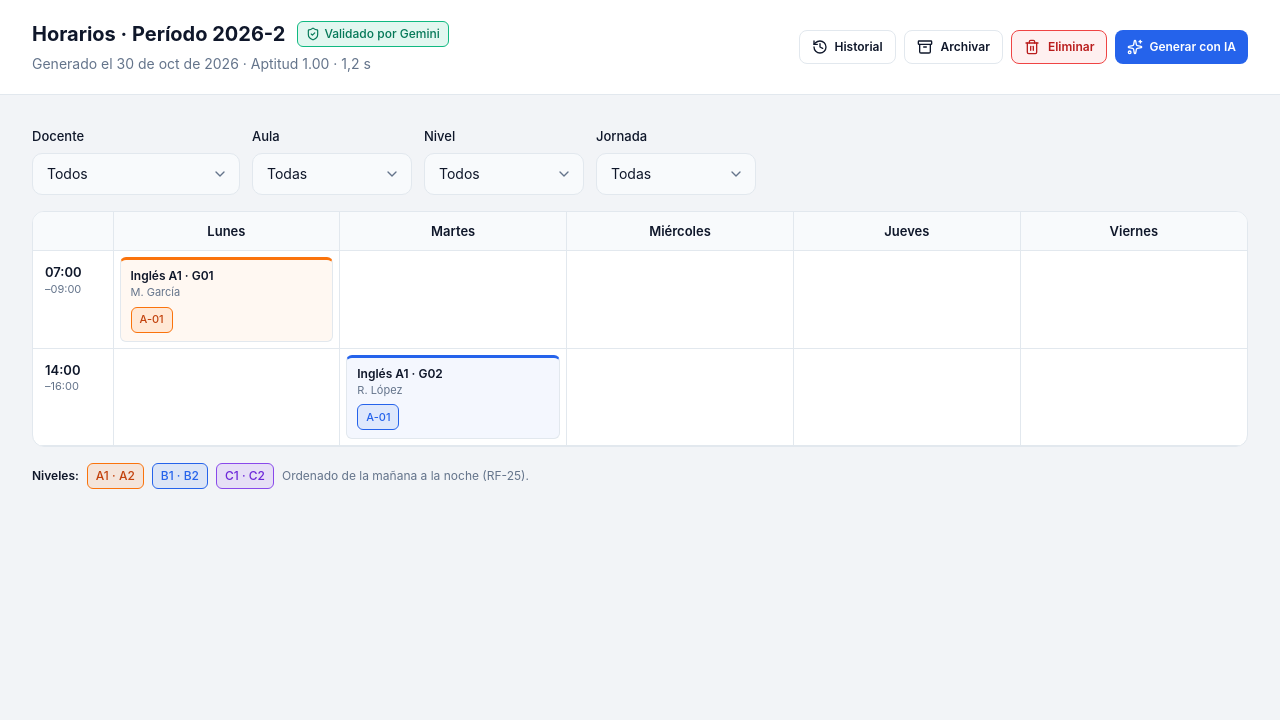
Scenario: Horarios (RF-21, RF-22, RF-24, RF-25) › archiva los horarios activos del período con confirmación (RF-22)
The image size is (1280, 720).
Click the button "Archivar".
click(953, 47)  # box left=904, top=30, right=1003, bottom=64
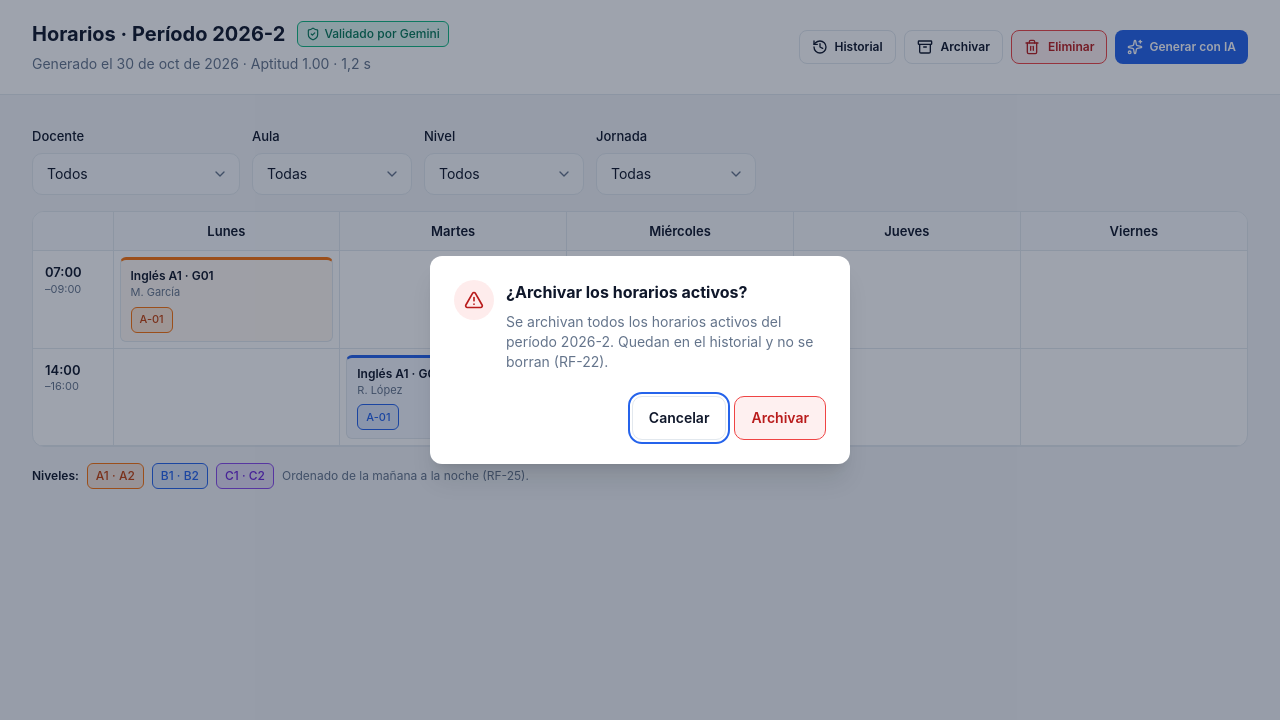
Click the button "Archivar".
click(780, 418)  # box left=734, top=396, right=826, bottom=440
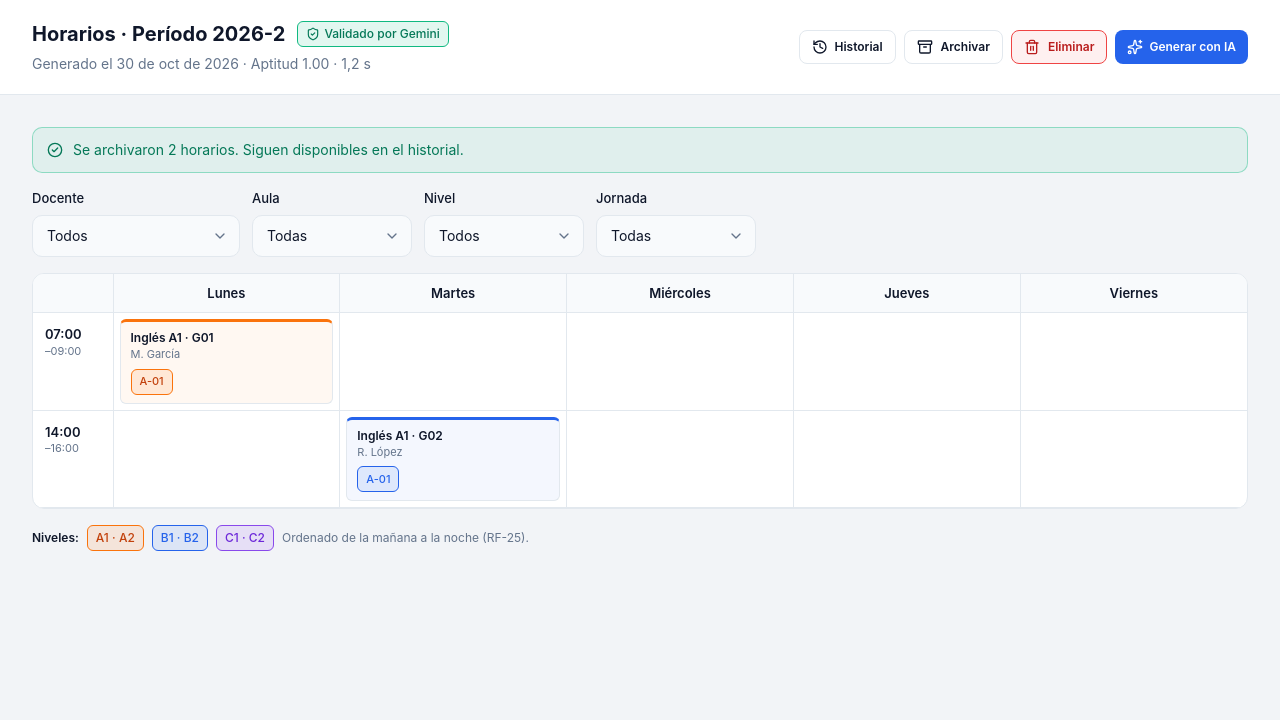
Result: the text "Se archivaron 2 horarios" is shown at left=73, top=141, right=464, bottom=158
